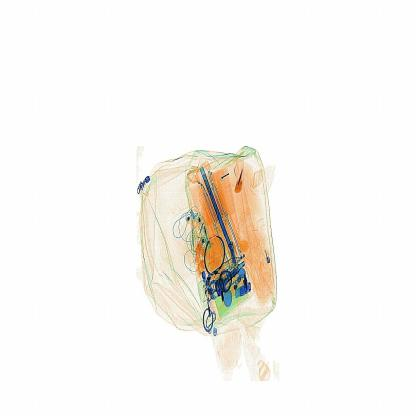wrench: (233, 163, 247, 198)
